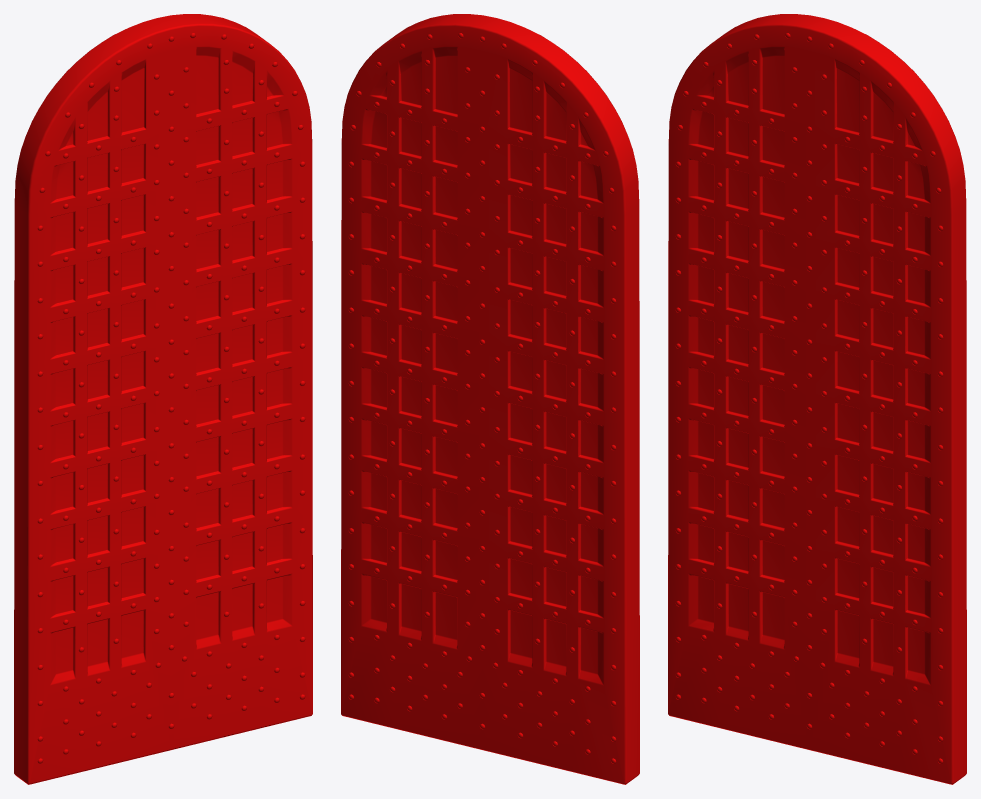
Rendered from Door1Arch2.fbx.
3 renders of one model, left to right at view 1: azimuth 30°, elevation 25°; view 2: azimuth 150°, elevation 25°; view 3: azimuth 330°, elevation 25°, orthographic.
Parts seen in each view (by area): view 1: Door1Arch2, Door1Arch2_Bolts; view 2: Door1Arch2, Door1Arch2_Bolts; view 3: Door1Arch2, Door1Arch2_Bolts.
Part boxes in pixels (box(x1,y1,x2,y2)): Door1Arch2: box(14, 14, 312, 784); Door1Arch2_Bolts: box(37, 33, 305, 763); Door1Arch2: box(341, 14, 639, 784); Door1Arch2_Bolts: box(348, 33, 616, 763); Door1Arch2: box(668, 14, 966, 784); Door1Arch2_Bolts: box(675, 33, 943, 763).
Bounding box in the file's own units: 110 × 265 × 11.47.
